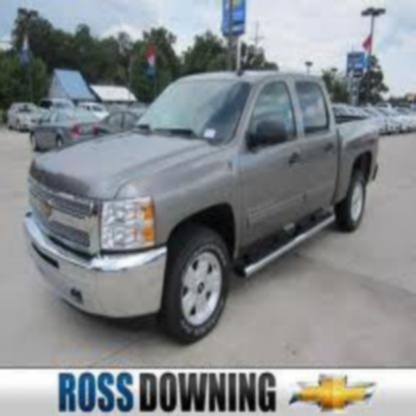Vehicle: (26, 75, 387, 345)
